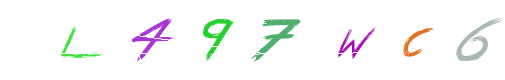4: (179, 0, 259, 80)
6: (374, 0, 454, 80)
7: (221, 0, 301, 80)
9: (210, 0, 290, 80)
C: (343, 0, 423, 80)
L: (137, 0, 217, 80)
W: (225, 0, 305, 80)
